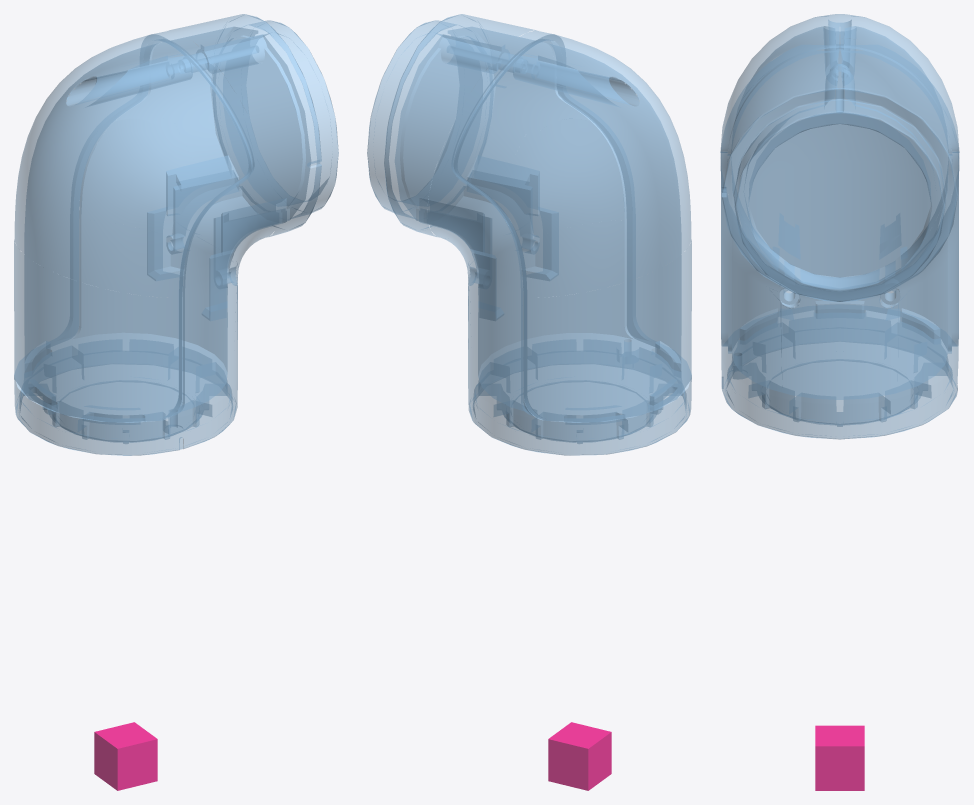
The model's file is MyCobotPi_J1.gltf.
3 views of the same model, side by side, from view 1: azimuth 30°, elevation 25°; view 2: azimuth 150°, elevation 25°; view 3: azimuth 270°, elevation 25° (orthographic). The views are drawn at different scales.
Visible parts, largest first — view 1: polySurface148, polySurface174, J1_Cube; view 2: polySurface148, polySurface174, J1_Cube; view 3: polySurface148, polySurface174, J1_Cube.
Part boxes in pixels (left/top/right/bottom): polySurface148: left=14, top=14, right=338, bottom=455; polySurface174: left=14, top=34, right=251, bottom=424; J1_Cube: left=94, top=722, right=157, bottom=790; polySurface148: left=367, top=14, right=691, bottom=455; polySurface174: left=454, top=34, right=691, bottom=424; J1_Cube: left=548, top=722, right=611, bottom=790; polySurface148: left=720, top=38, right=959, bottom=439; polySurface174: left=720, top=14, right=959, bottom=351; J1_Cube: left=815, top=725, right=864, bottom=790.
Bounding box in the file's own units: 0.0649 × 0.1719 × 0.0486.
